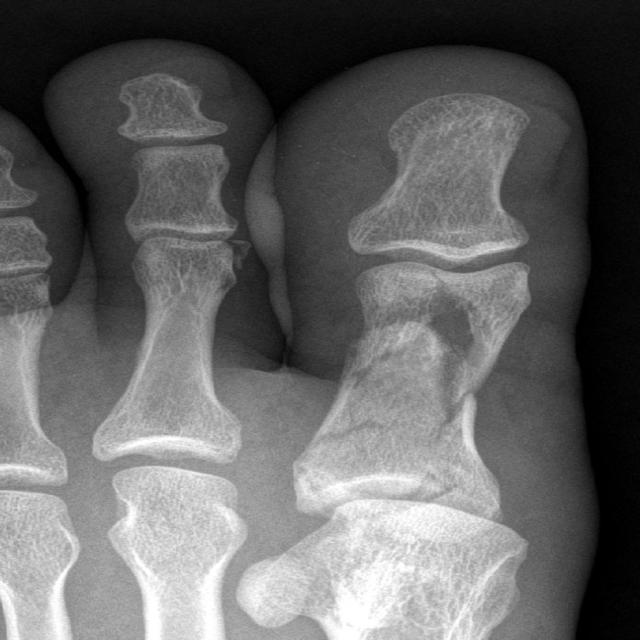comminuted: (314, 274, 493, 496)
